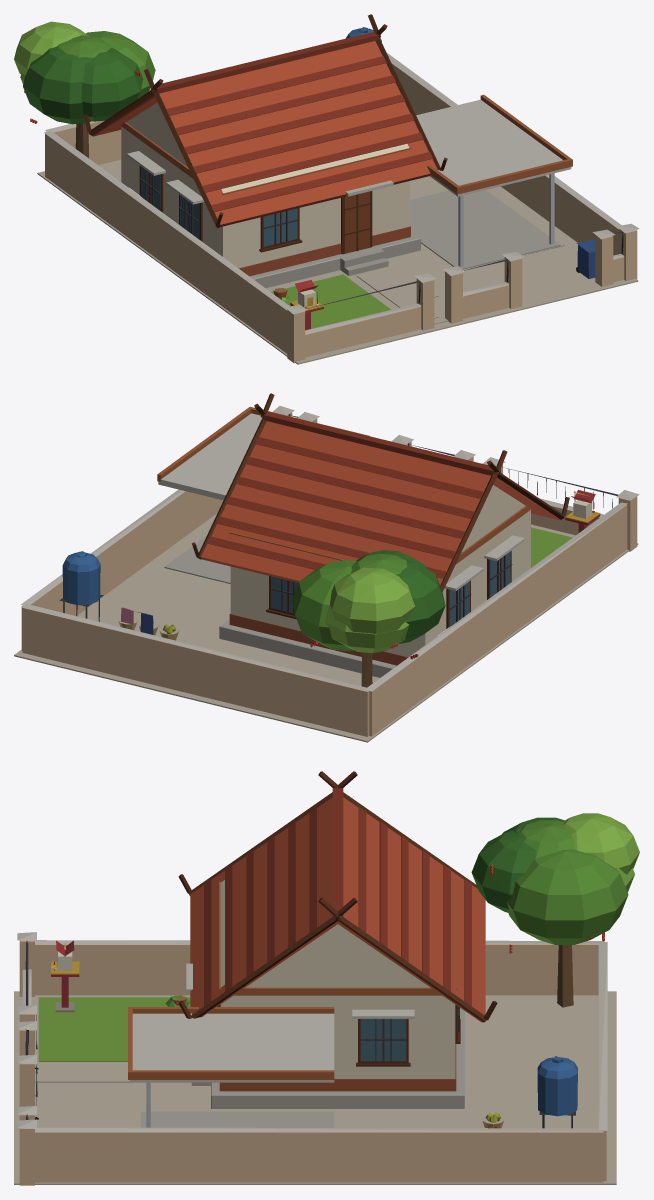
The model's file is house12_1.glb.
3 renders of one model, top to bottom at view 1: azimuth 30°, elevation 25°; view 2: azimuth 150°, elevation 25°; view 3: azimuth 270°, elevation 25°, orthographic. The views are drawn at different scales.
Parts seen in each view (by area): view 1: body, windows; view 2: body, windows; view 3: body, windows.
Boxes of the visible parts, left/top/right/bottom form: body: left=14, top=14, right=639, bottom=364; windows: left=140, top=166, right=297, bottom=246; body: left=14, top=393, right=639, bottom=742; windows: left=271, top=551, right=510, bottom=626; body: left=14, top=771, right=639, bottom=1185; windows: left=360, top=1006, right=457, bottom=1061.
Size of the model in its own units: 13.4 by 6.69 by 16.52.
